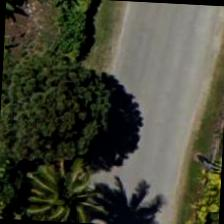Kelapa_Sawit: (10, 148, 104, 224)
